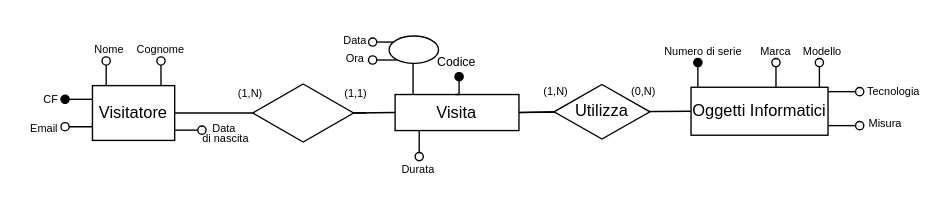
Image size: 948x203. Some labels were removed from this diagram. The shapes that lost their labels are listed below. From the top down, each one's box as (x1, y1, x2, y2) in pixels, then its label:
(388, 35, 439, 63): DataVisita
(251, 83, 354, 142): Sostiene
